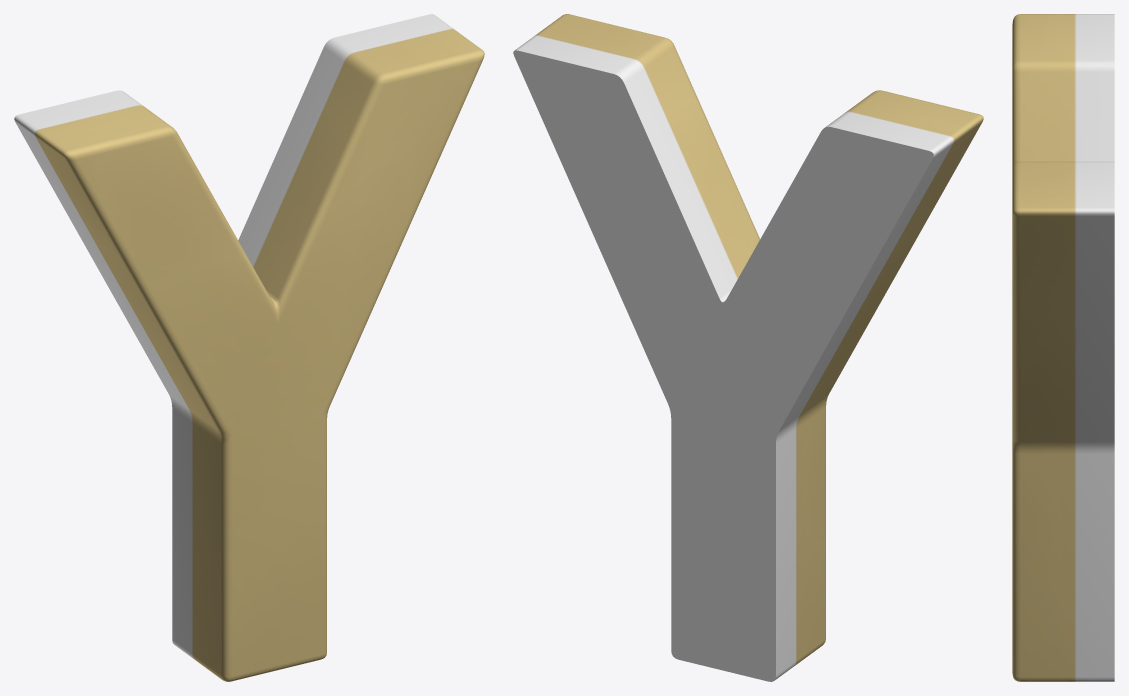
The model's file is LettersLightUp01_Y.FBX.
3 renders of one model, left to right at view 1: azimuth 30°, elevation 25°; view 2: azimuth 150°, elevation 25°; view 3: azimuth 270°, elevation 25°, orthographic. The views are drawn at different scales.
Visible parts, largest first — view 1: LettersLightUp01_Y; view 2: LettersLightUp01_Y; view 3: LettersLightUp01_Y.
Part boxes in pixels (left/top/right/bottom): LettersLightUp01_Y: left=14, top=14, right=484, bottom=681; LettersLightUp01_Y: left=513, top=14, right=983, bottom=681; LettersLightUp01_Y: left=1012, top=14, right=1114, bottom=681.
Size of what is drawn, in the model's own units: 0.4633 by 0.6001 by 0.1012.
